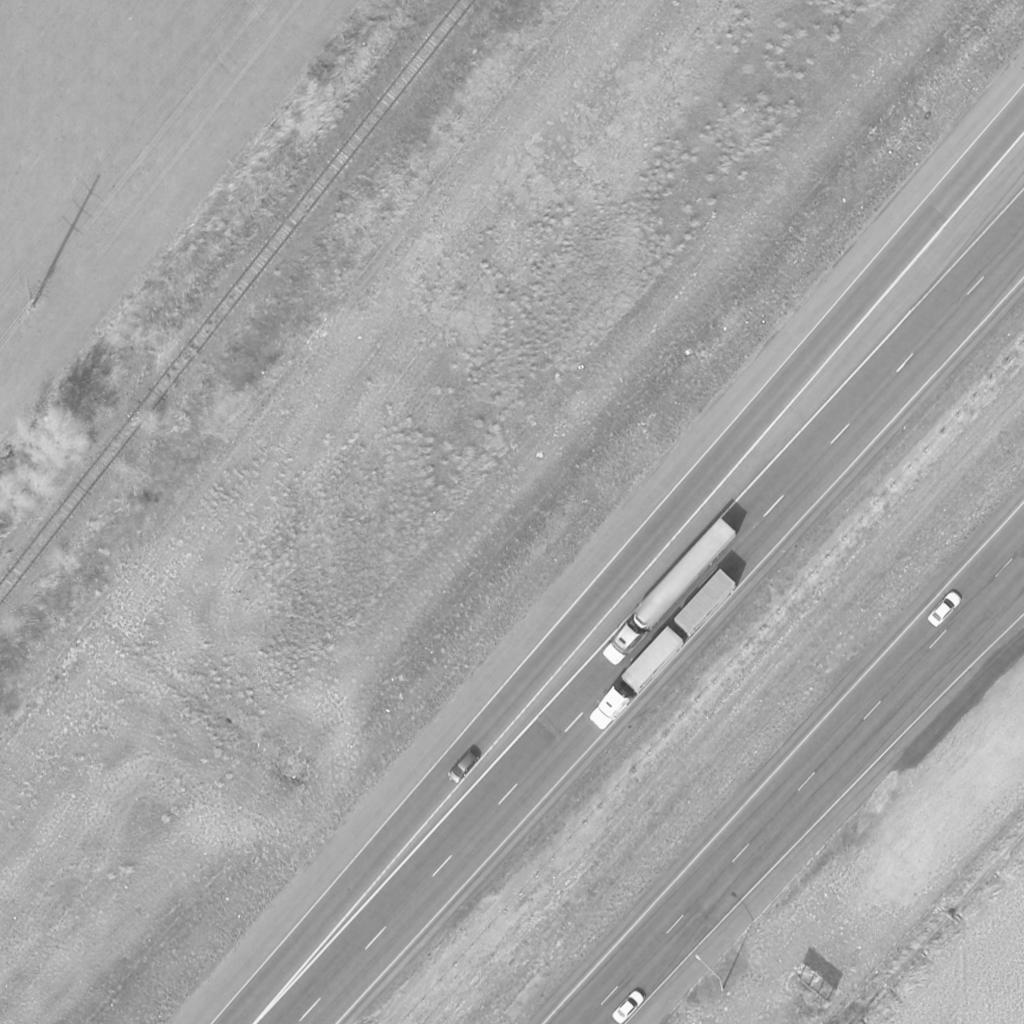vehicle: (598, 519, 740, 669), (584, 628, 686, 734), (927, 590, 963, 630), (609, 988, 645, 1024), (444, 750, 480, 784)
